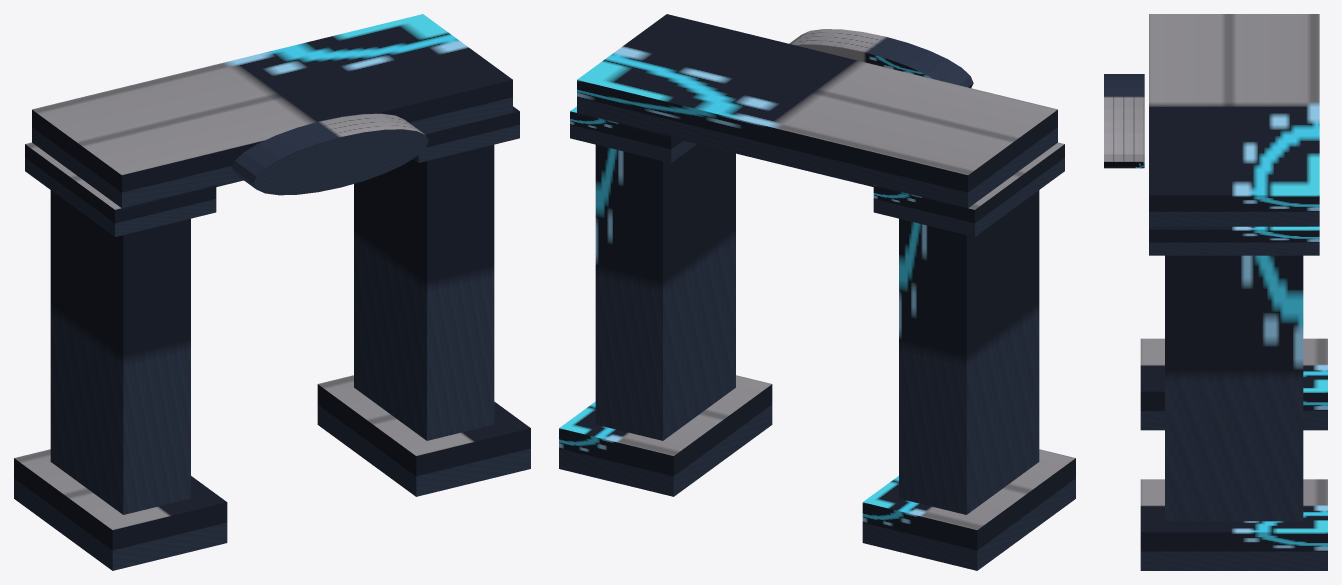
Rendered from Gate_Frame.obj.
The picture shows the model from 3 angles, left to right: view 1: azimuth 30°, elevation 25°; view 2: azimuth 150°, elevation 25°; view 3: azimuth 270°, elevation 25°; orthographic projection. The views are drawn at different scales.
Parts seen in each view (by area): view 1: Gate_Frame; view 2: Gate_Frame; view 3: Gate_Frame.
Part boxes in pixels (x1=…): Gate_Frame: x1=14, y1=14, x2=530, y2=570; Gate_Frame: x1=559, y1=14, x2=1075, y2=570; Gate_Frame: x1=1104, y1=14, x2=1327, y2=570.
Size of the model in its own units: 1.13 by 1.02 by 0.55.
Materials: 1 (1 with a texture image).
